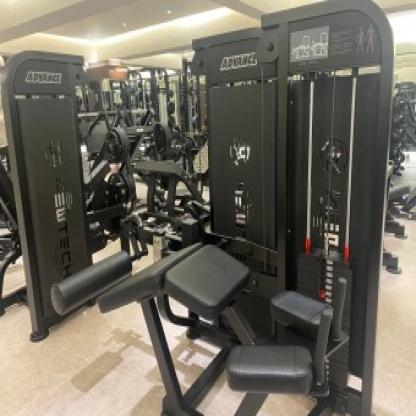reg curl machine: (45, 0, 398, 416)
